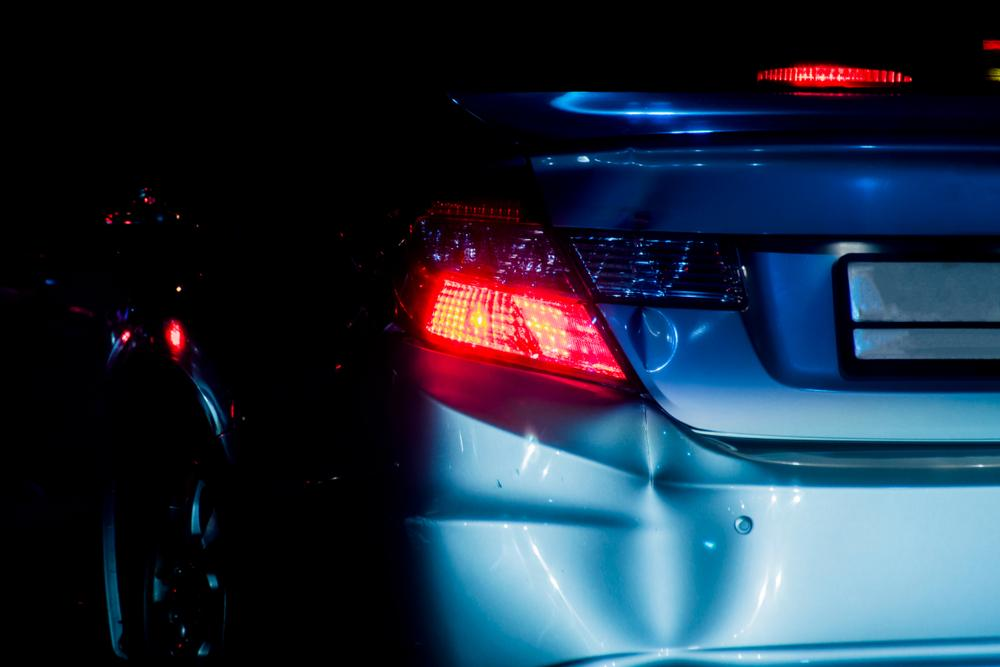dent: (528, 411, 781, 652), (627, 307, 677, 371)
